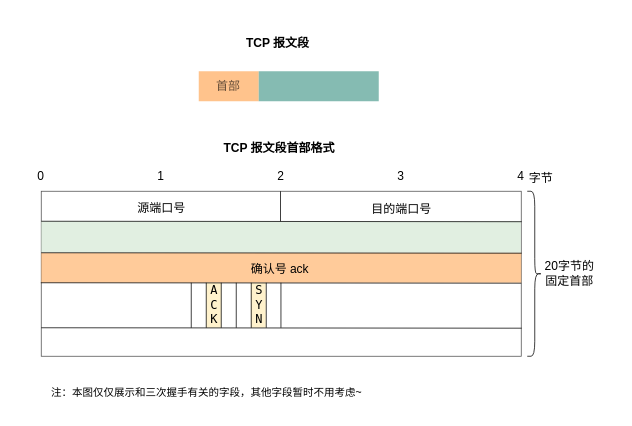
Image size: 632x426. Some labels were removed from this diagram. The centre of each missing label's shape, as x and y in pixels:
"序列号 seq" goes at [280,236].
"数据部分" goes at [318,85].
